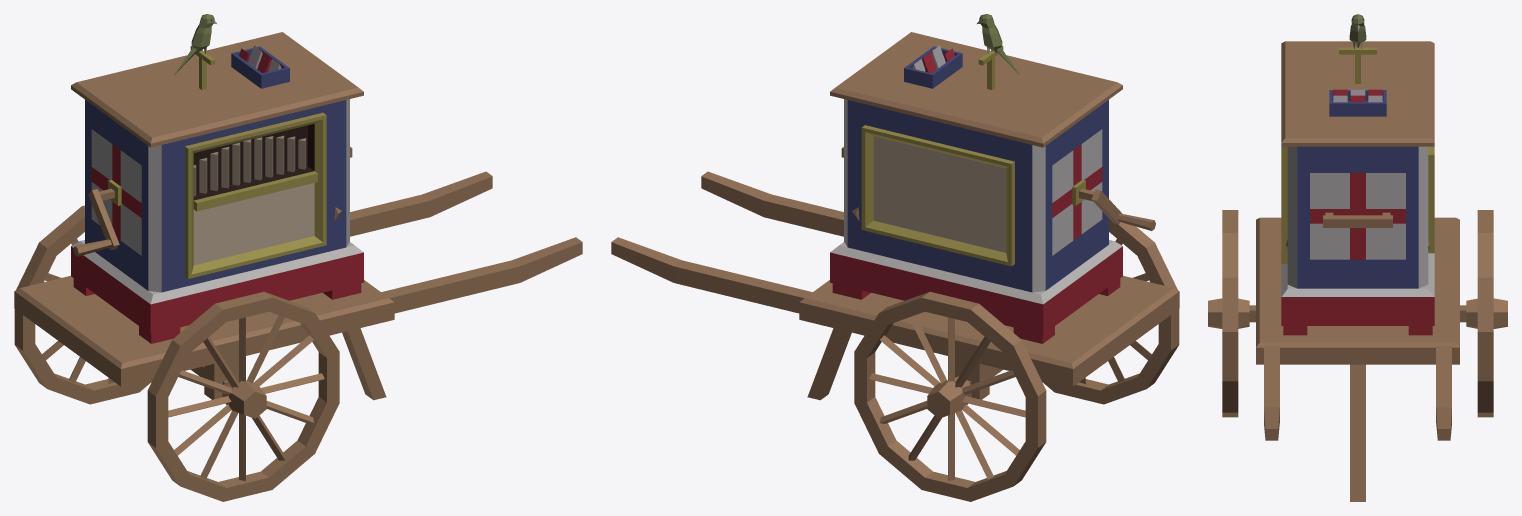
File: barrel-organ-cart-30799d.glb
The picture shows the model from 3 angles, left to right: view 1: azimuth 30°, elevation 25°; view 2: azimuth 150°, elevation 25°; view 3: azimuth 270°, elevation 25°; orthographic projection. The views are drawn at different scales.
Parts seen in each view (by area): view 1: organ-cart, wheel-r-mesh, wheel-l-mesh, crank-mesh, bird-mesh; view 2: organ-cart, wheel-l-mesh, wheel-r-mesh, crank-mesh, bird-mesh; view 3: organ-cart, wheel-r-mesh, wheel-l-mesh, bird-mesh.
Part boxes in pixels (<box>): organ-cart: <box>14,32,582,400</box>; wheel-r-mesh: <box>147,291,339,501</box>; wheel-l-mesh: <box>14,205,152,404</box>; crank-mesh: <box>73,188,119,256</box>; bird-mesh: <box>173,14,217,75</box>; organ-cart: <box>611,32,1179,400</box>; wheel-l-mesh: <box>854,291,1046,501</box>; wheel-r-mesh: <box>1041,219,1179,404</box>; crank-mesh: <box>1079,188,1155,230</box>; bird-mesh: <box>976,14,1020,75</box>; organ-cart: <box>1249,41,1466,501</box>; wheel-r-mesh: <box>1208,210,1249,417</box>; wheel-l-mesh: <box>1466,210,1507,417</box>; bird-mesh: <box>1349,14,1366,48</box>.
Bounding box in the file's own units: 1.65 × 1.4 × 0.94.
